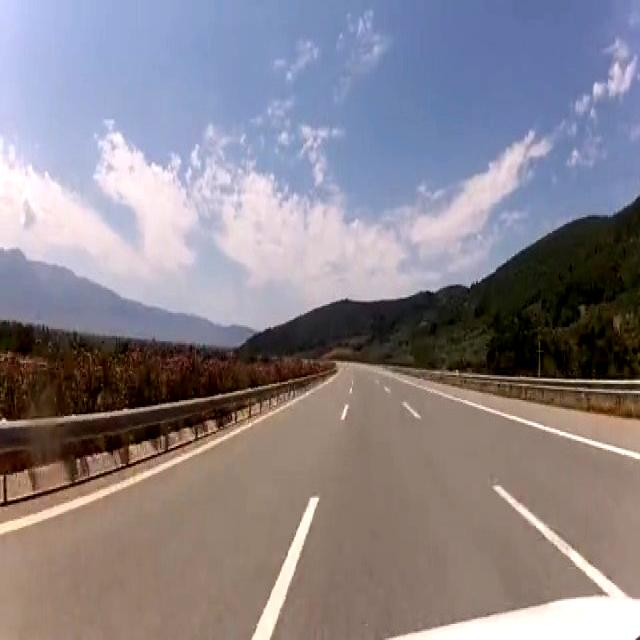lane: (0, 410, 280, 534), (394, 374, 640, 459), (492, 484, 625, 598), (252, 496, 318, 638)
road: (0, 364, 639, 636)
